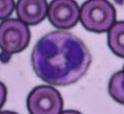N: (30, 31, 92, 85)
